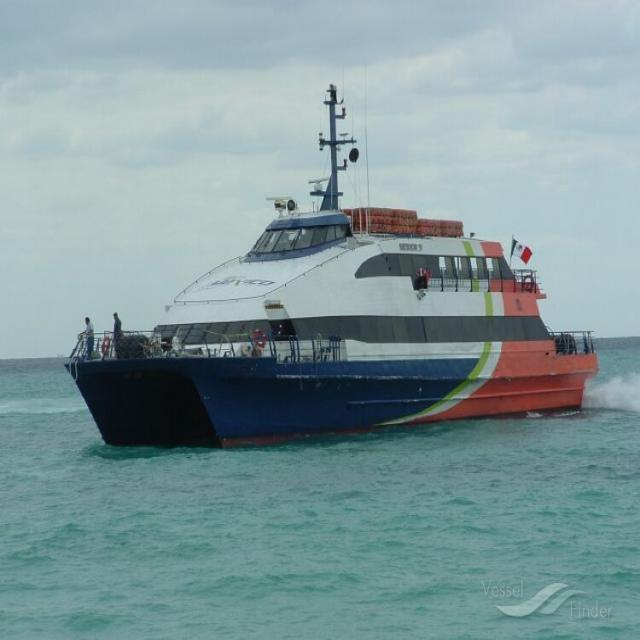Passenger Ship: (66, 84, 600, 445)
